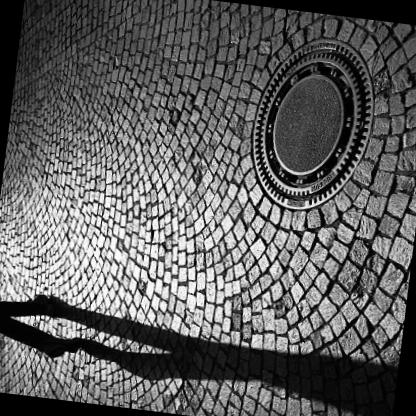manholes: (226, 27, 391, 220)
